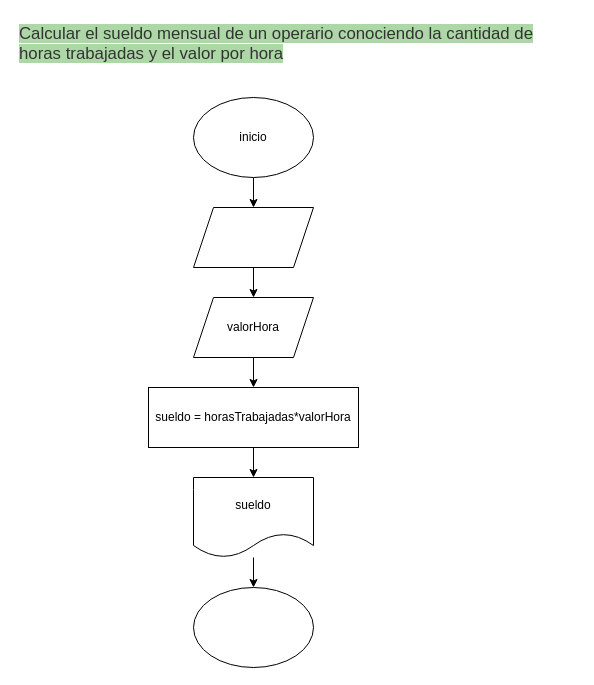
The diagram is 594 pixels wide and 685 high, and some of its shapes have lost their labels. The centre of each missing label's shape, as x and y in pixels:
fin: the point at 253,627
horasTrabajadas: the point at 253,237
